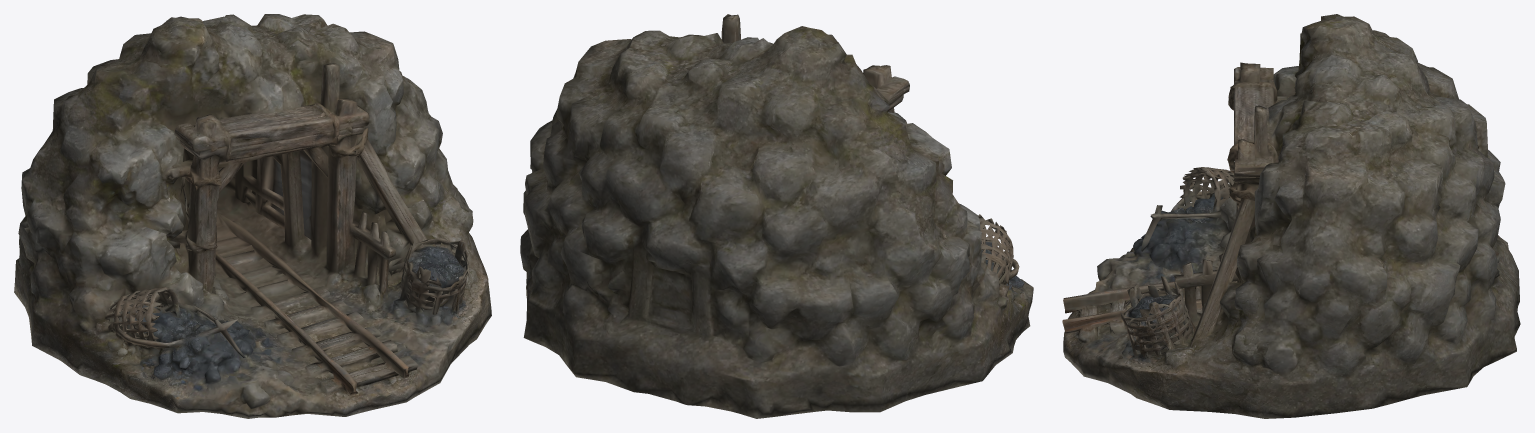
Rendered from t951_mine.glb.
3 views of the same model, side by side, from view 1: azimuth 30°, elevation 25°; view 2: azimuth 150°, elevation 25°; view 3: azimuth 270°, elevation 25° (orthographic). The views are drawn at different scales.
Visible parts, largest first — view 1: tripo_node_af0fda16-3a35-44ad-b438-a34640cbf3e3; view 2: tripo_node_af0fda16-3a35-44ad-b438-a34640cbf3e3; view 3: tripo_node_af0fda16-3a35-44ad-b438-a34640cbf3e3.
Boxes of the visible parts, x1=… form: tripo_node_af0fda16-3a35-44ad-b438-a34640cbf3e3: x1=14, y1=14, x2=491, y2=418; tripo_node_af0fda16-3a35-44ad-b438-a34640cbf3e3: x1=520, y1=14, x2=1033, y2=418; tripo_node_af0fda16-3a35-44ad-b438-a34640cbf3e3: x1=1062, y1=14, x2=1520, y2=418.
Bounding box in the file's own units: 0.9802 × 0.6832 × 0.9552.
1 material, 1 textured.
